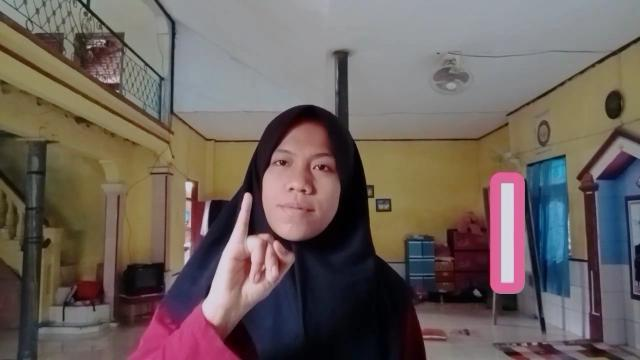I: (216, 192, 298, 308)
